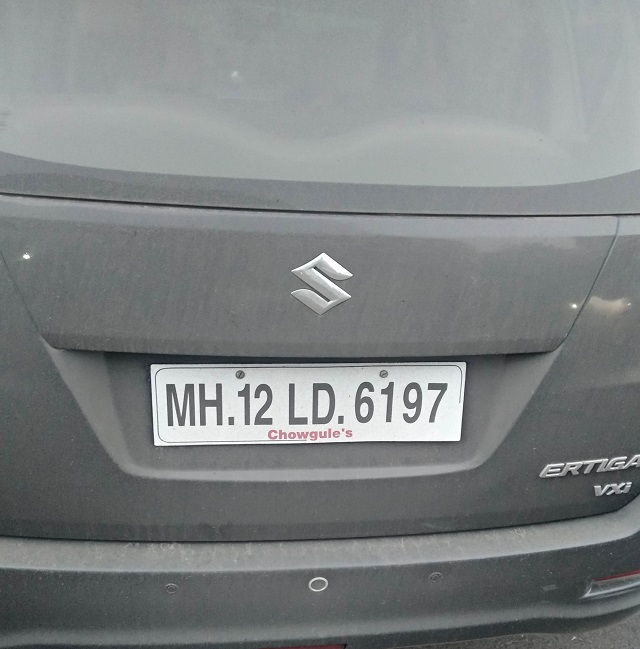licenseplate: (149, 358, 471, 450)
